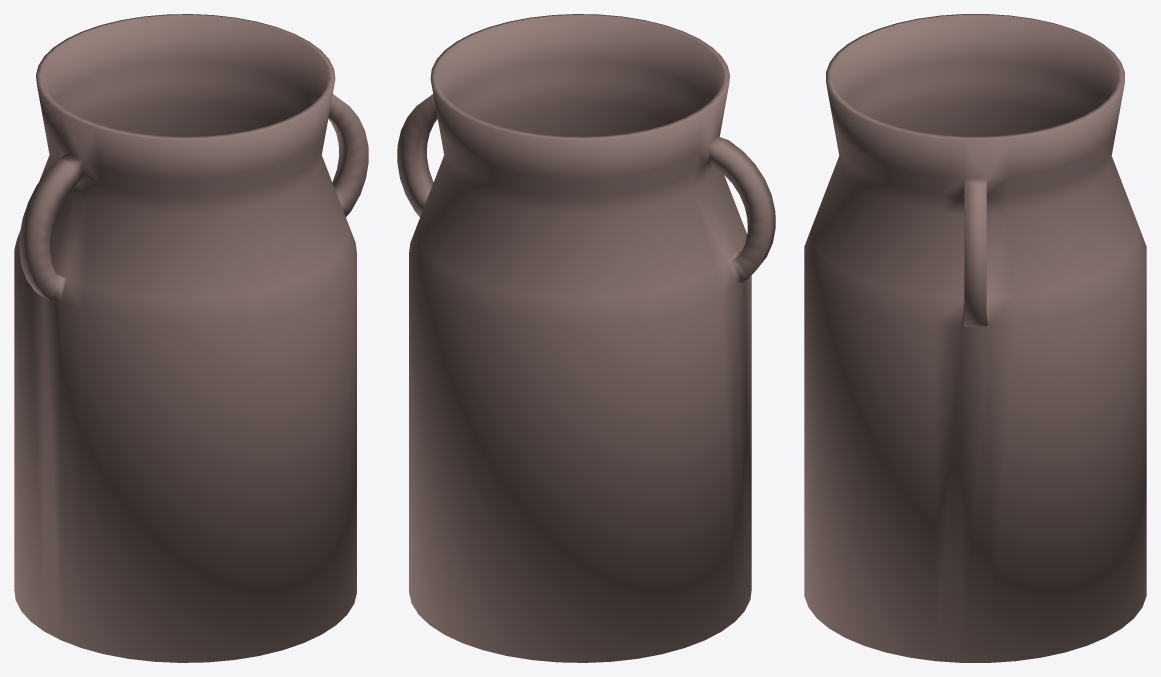
The model's file is metal_milk_jug_3d_model.obj.
The picture shows the model from 3 angles, left to right: view 1: azimuth 30°, elevation 25°; view 2: azimuth 150°, elevation 25°; view 3: azimuth 270°, elevation 25°; orthographic projection.
Visible parts, largest first — view 1: Milk_Jug_Metal_Material_0; view 2: Milk_Jug_Metal_Material_0; view 3: Milk_Jug_Metal_Material_0.
Boxes of the visible parts, x1,y1,x2,y2 form: Milk_Jug_Metal_Material_0: (14, 14, 368, 662); Milk_Jug_Metal_Material_0: (397, 14, 775, 662); Milk_Jug_Metal_Material_0: (804, 14, 1146, 662).
Size of the model in its own units: 0.3072 by 0.4258 by 0.2567.
